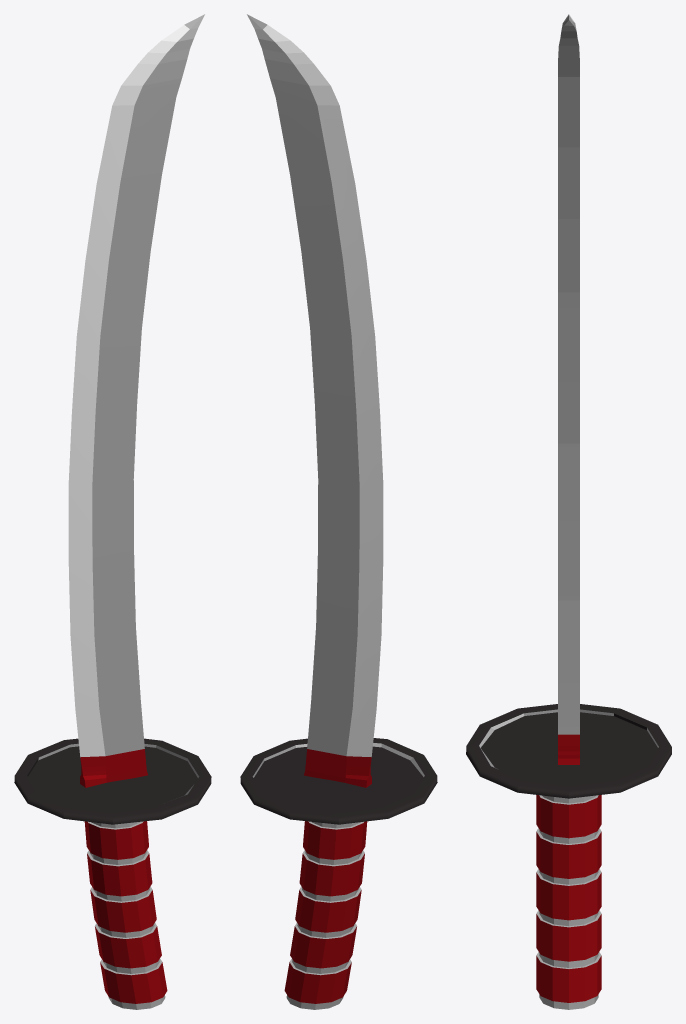
File: Katana.fbx
3 views of the same model, side by side, from view 1: azimuth 30°, elevation 25°; view 2: azimuth 150°, elevation 25°; view 3: azimuth 270°, elevation 25° (orthographic). The views are drawn at different scales.
Parts seen in each view (by area): view 1: katana; view 2: katana; view 3: katana.
Part boxes in pixels (x1,y1,x2,y2): katana: [14, 14, 211, 1009]; katana: [240, 14, 437, 1009]; katana: [466, 14, 671, 1009].
Bounding box in the file's own units: 0.2891 × 0.2772 × 1.5.
